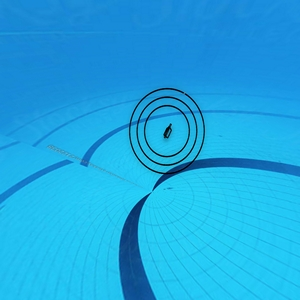submarine: (166, 126, 174, 138)
